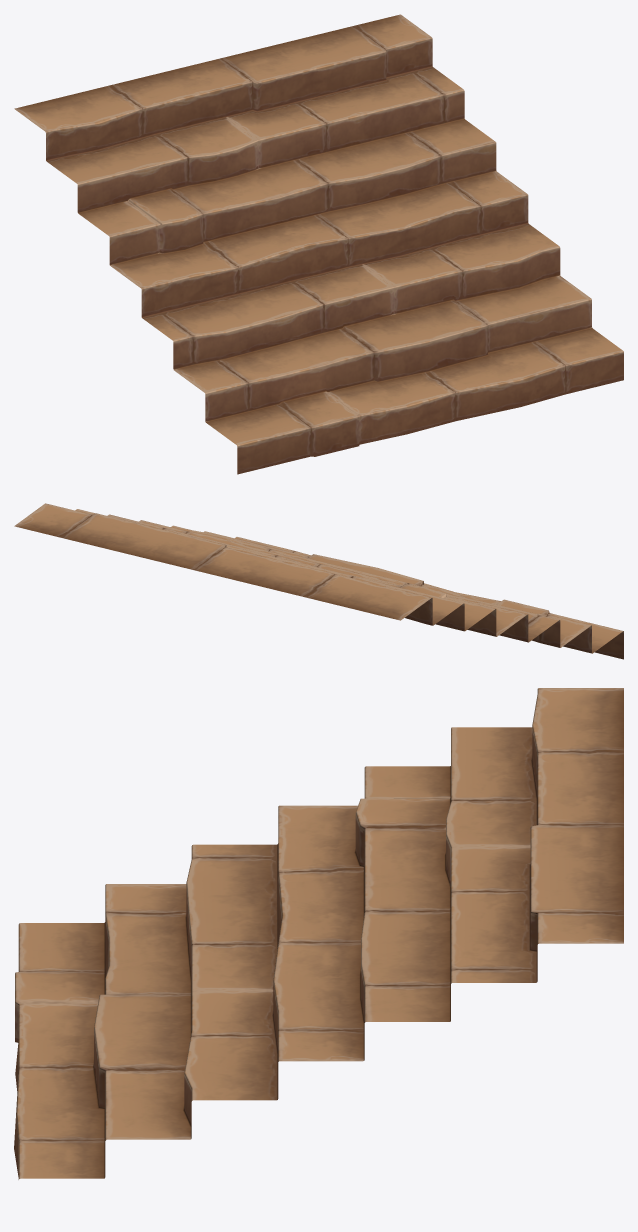
Rendered from SM_Stairs_01.fbx.
The picture shows the model from 3 angles, top to bottom: view 1: azimuth 30°, elevation 25°; view 2: azimuth 150°, elevation 25°; view 3: azimuth 270°, elevation 25°; orthographic projection. The views are drawn at different scales.
Visible parts, largest first — view 1: SM_Stairs_01; view 2: SM_Stairs_01; view 3: SM_Stairs_01.
Boxes of the visible parts, x1,y1,x2,y2 form: SM_Stairs_01: (14, 14, 623, 474); SM_Stairs_01: (14, 503, 623, 659); SM_Stairs_01: (14, 688, 623, 1179).
Bounding box in the file's own units: 400 × 200 × 403.
